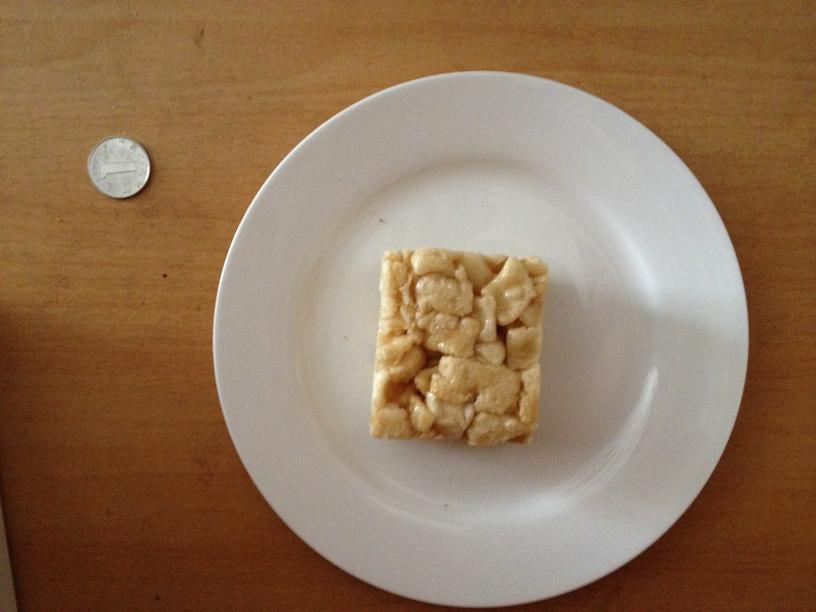coin: (86, 136, 152, 198)
sachima: (365, 247, 543, 444)
